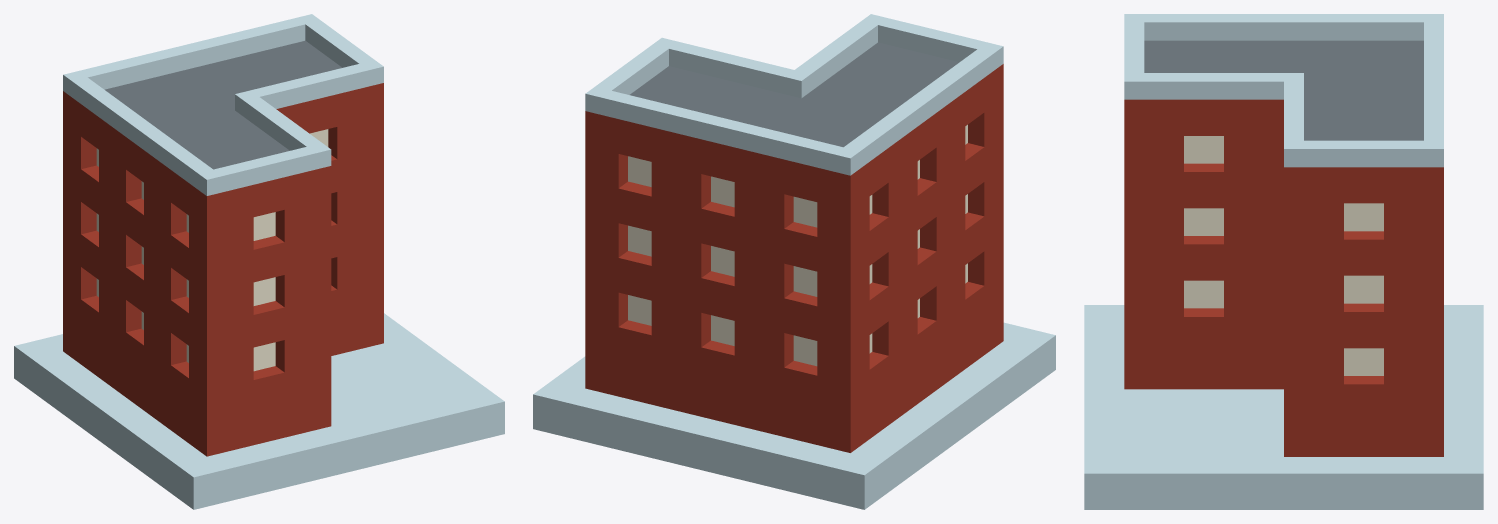
The model's file is Building_3_Base (Red).obj.
The picture shows the model from 3 angles, left to right: view 1: azimuth 30°, elevation 25°; view 2: azimuth 150°, elevation 25°; view 3: azimuth 270°, elevation 25°; orthographic projection. The views are drawn at different scales.
Parts seen in each view (by area): view 1: Building_3_Base_(Red); view 2: Building_3_Base_(Red); view 3: Building_3_Base_(Red).
Boxes of the visible parts, x1,y1,x2,y2 form: Building_3_Base_(Red): (14,14,504,509); Building_3_Base_(Red): (533,14,1055,509); Building_3_Base_(Red): (1084,14,1483,509).
Bounding box in the file's own units: 2 × 1.9 × 2.
